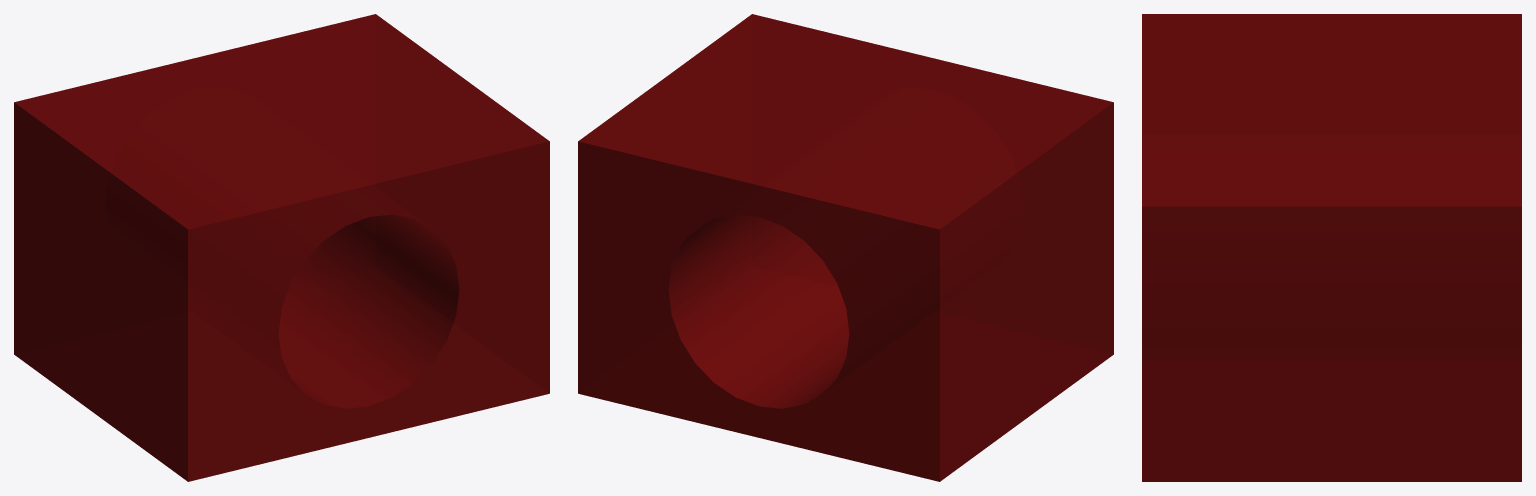
3 views of the same model, side by side, from view 1: azimuth 30°, elevation 25°; view 2: azimuth 150°, elevation 25°; view 3: azimuth 270°, elevation 25° (orthographic). The views are drawn at different scales.
Parts seen in each view (by area): view 1: SketchUp (×2); view 2: SketchUp (×2); view 3: SketchUp.
Part boxes in pixels (<box>): SketchUp (×2): <box>14,14,549,481</box>; SketchUp (×2): <box>578,14,1113,481</box>; SketchUp: <box>1142,14,1521,481</box>.
Size of the model in its own units: 236 by 197 by 157.
